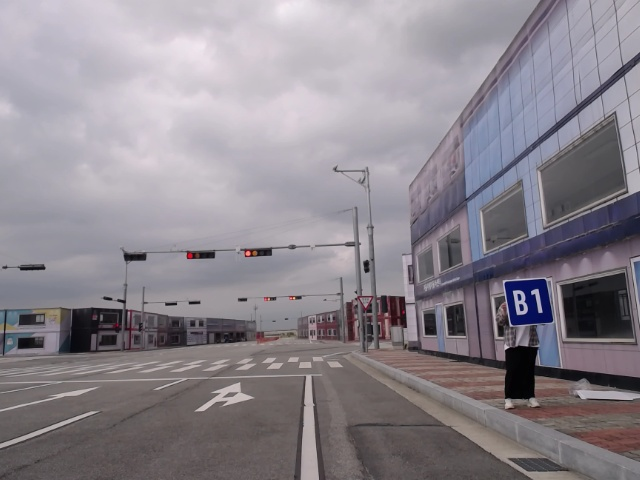delivery_b1: (504, 278, 554, 327)
